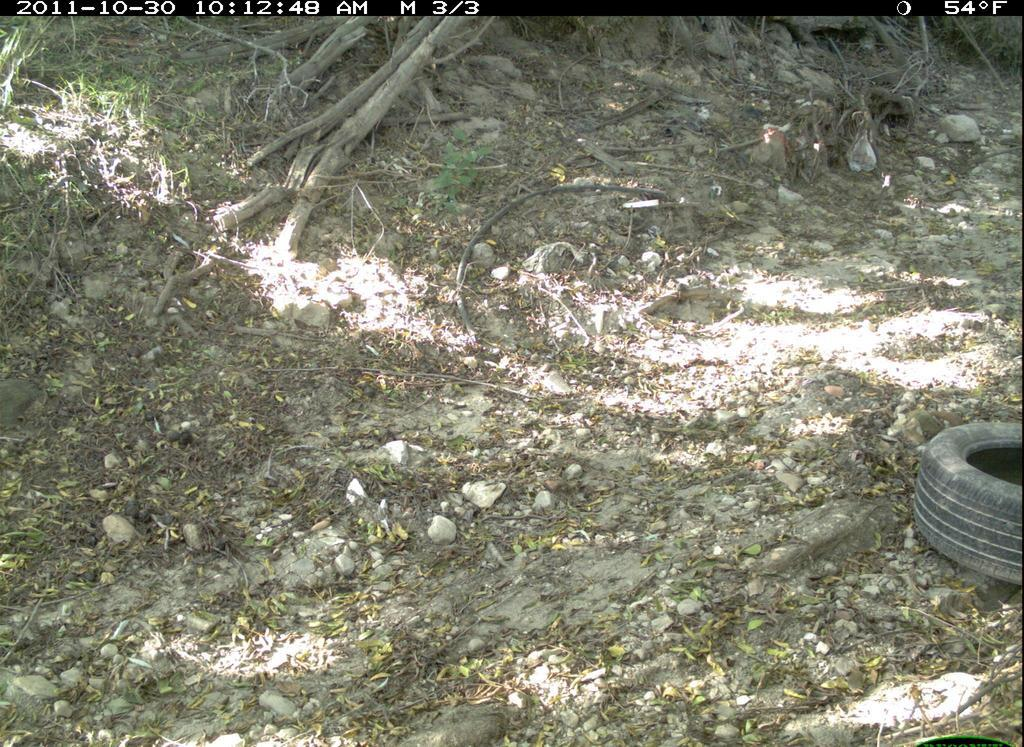cat: (392, 664, 533, 745)
